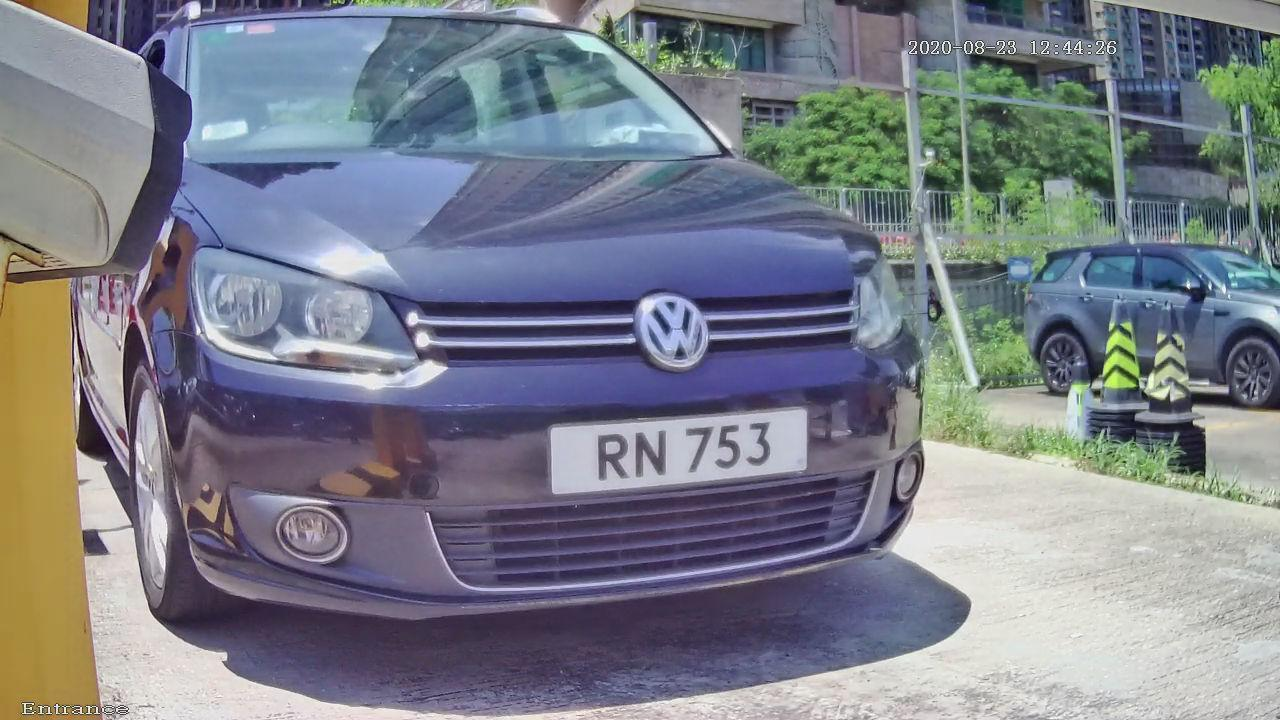Car: (41, 6, 1001, 681)
License Plate: (472, 352, 884, 540)
